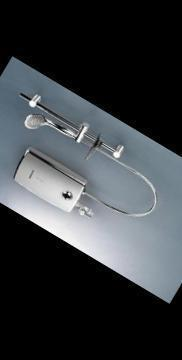Ducha: (0, 56, 182, 303)
